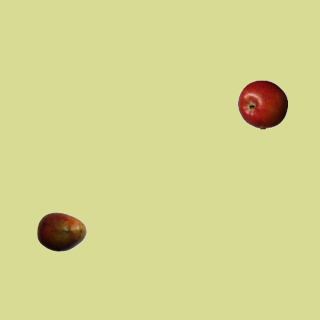Apple Braeburn: (237, 79, 287, 129)
Mango Red: (36, 206, 86, 256)
